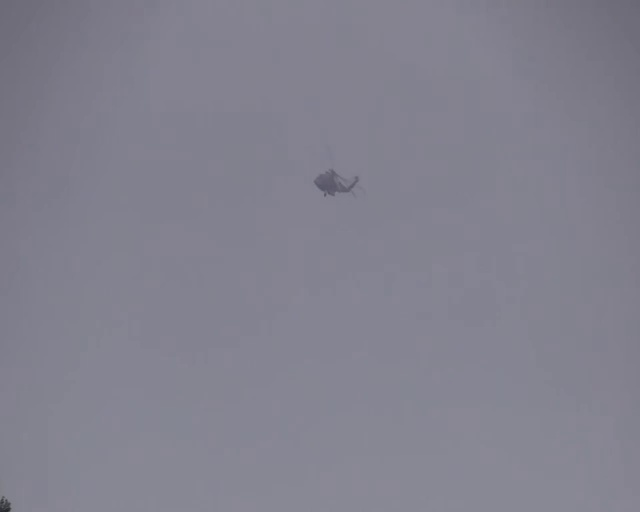HELICOPTER: (313, 167, 361, 197)
